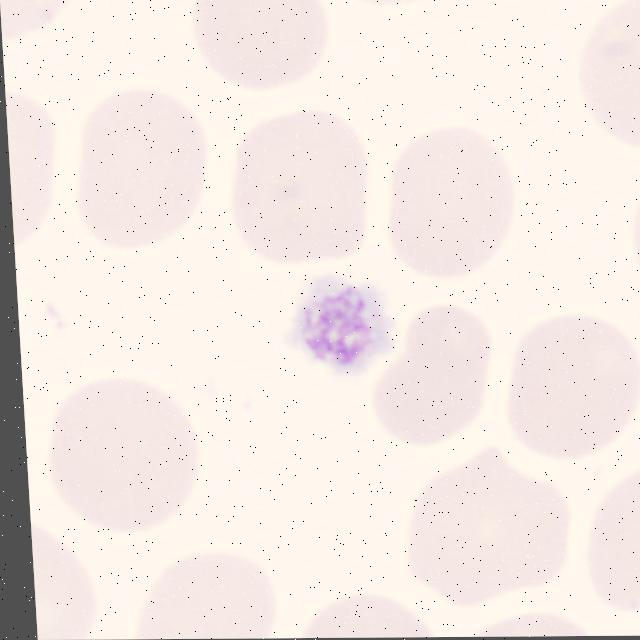platelets: (291, 277, 387, 380)
rbc: (388, 446, 579, 606), (42, 371, 206, 535), (221, 102, 379, 270), (69, 85, 218, 257), (381, 120, 527, 293), (499, 311, 640, 462), (115, 546, 290, 639), (182, 0, 339, 94), (568, 0, 640, 148), (5, 80, 65, 252), (30, 509, 106, 640), (578, 460, 640, 619), (289, 589, 450, 638), (0, 0, 91, 51), (466, 608, 596, 637), (331, 0, 474, 18), (626, 169, 640, 310), (22, 376, 35, 477)
